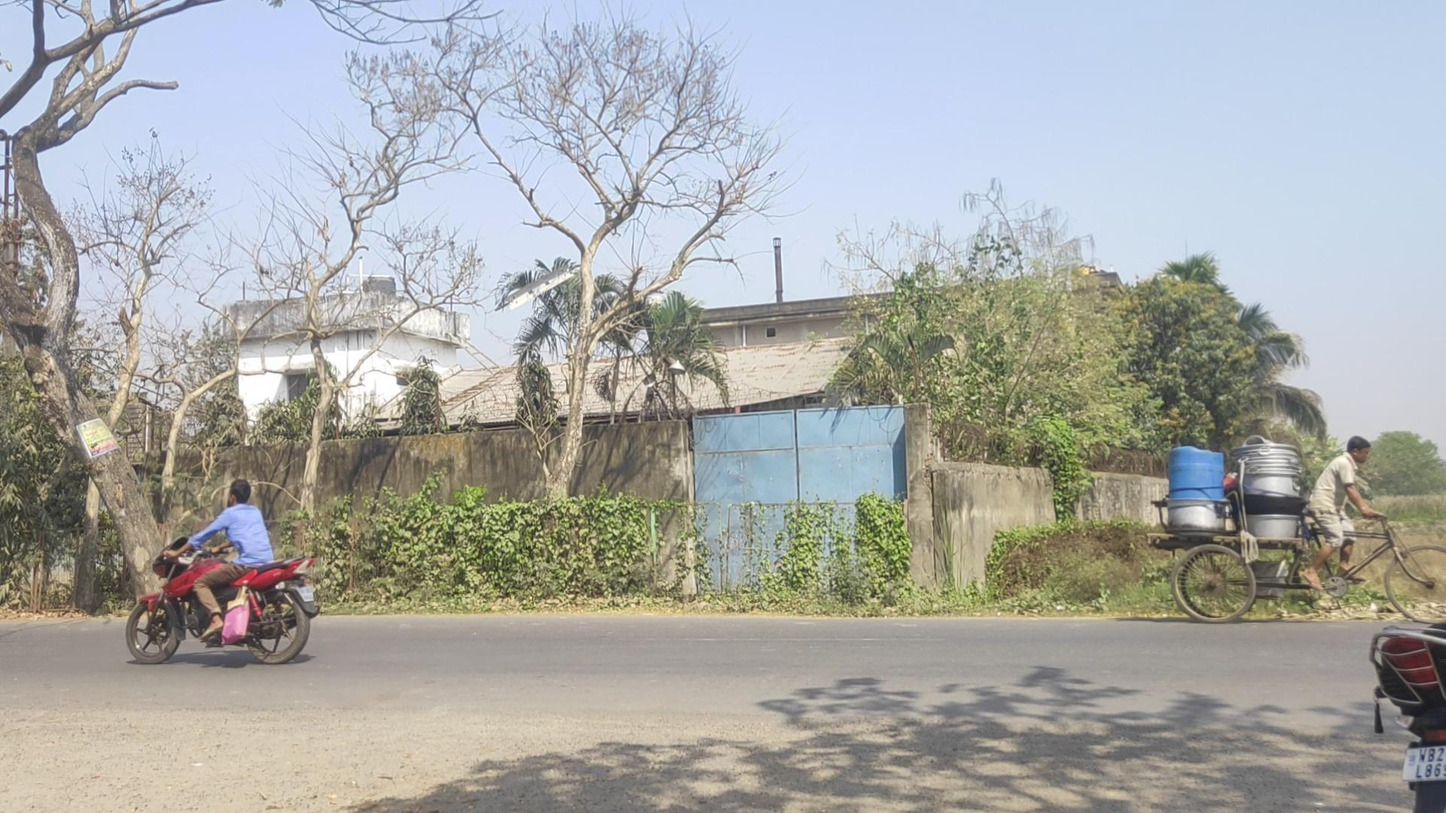bike: (125, 479, 319, 664)
